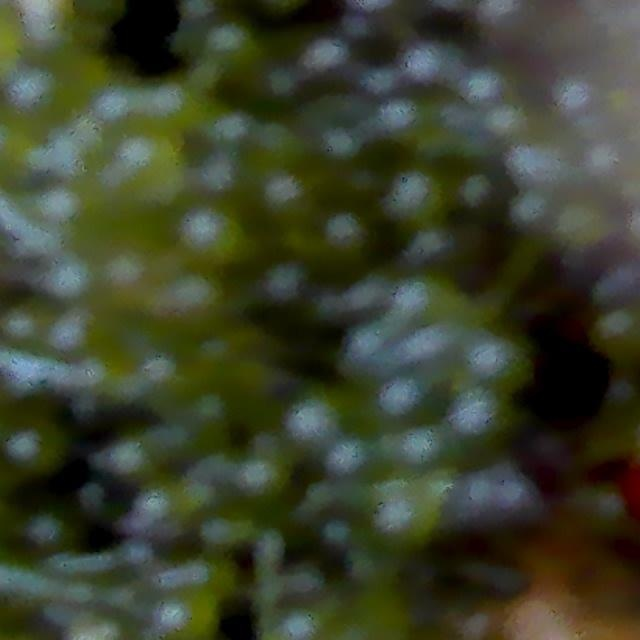SeaGrape: (2, 58, 89, 136), (180, 206, 248, 269), (113, 135, 186, 193), (470, 0, 541, 51), (285, 397, 336, 446), (42, 254, 92, 303), (451, 387, 498, 434)
